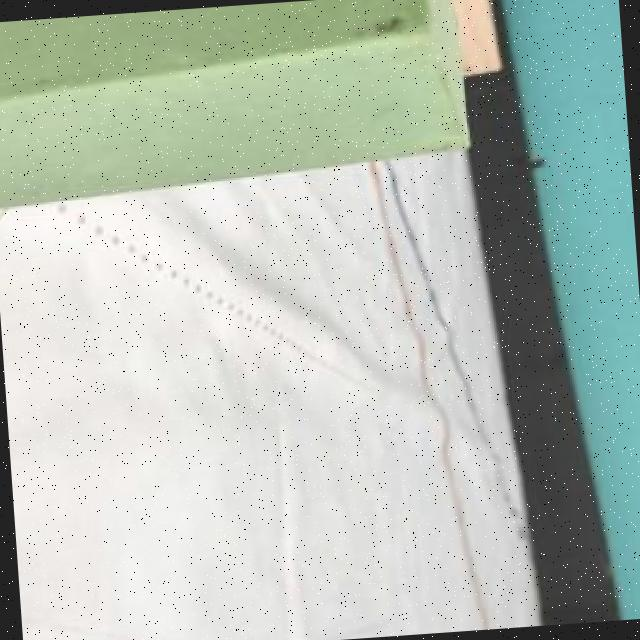greenbox: (0, 0, 471, 214)
